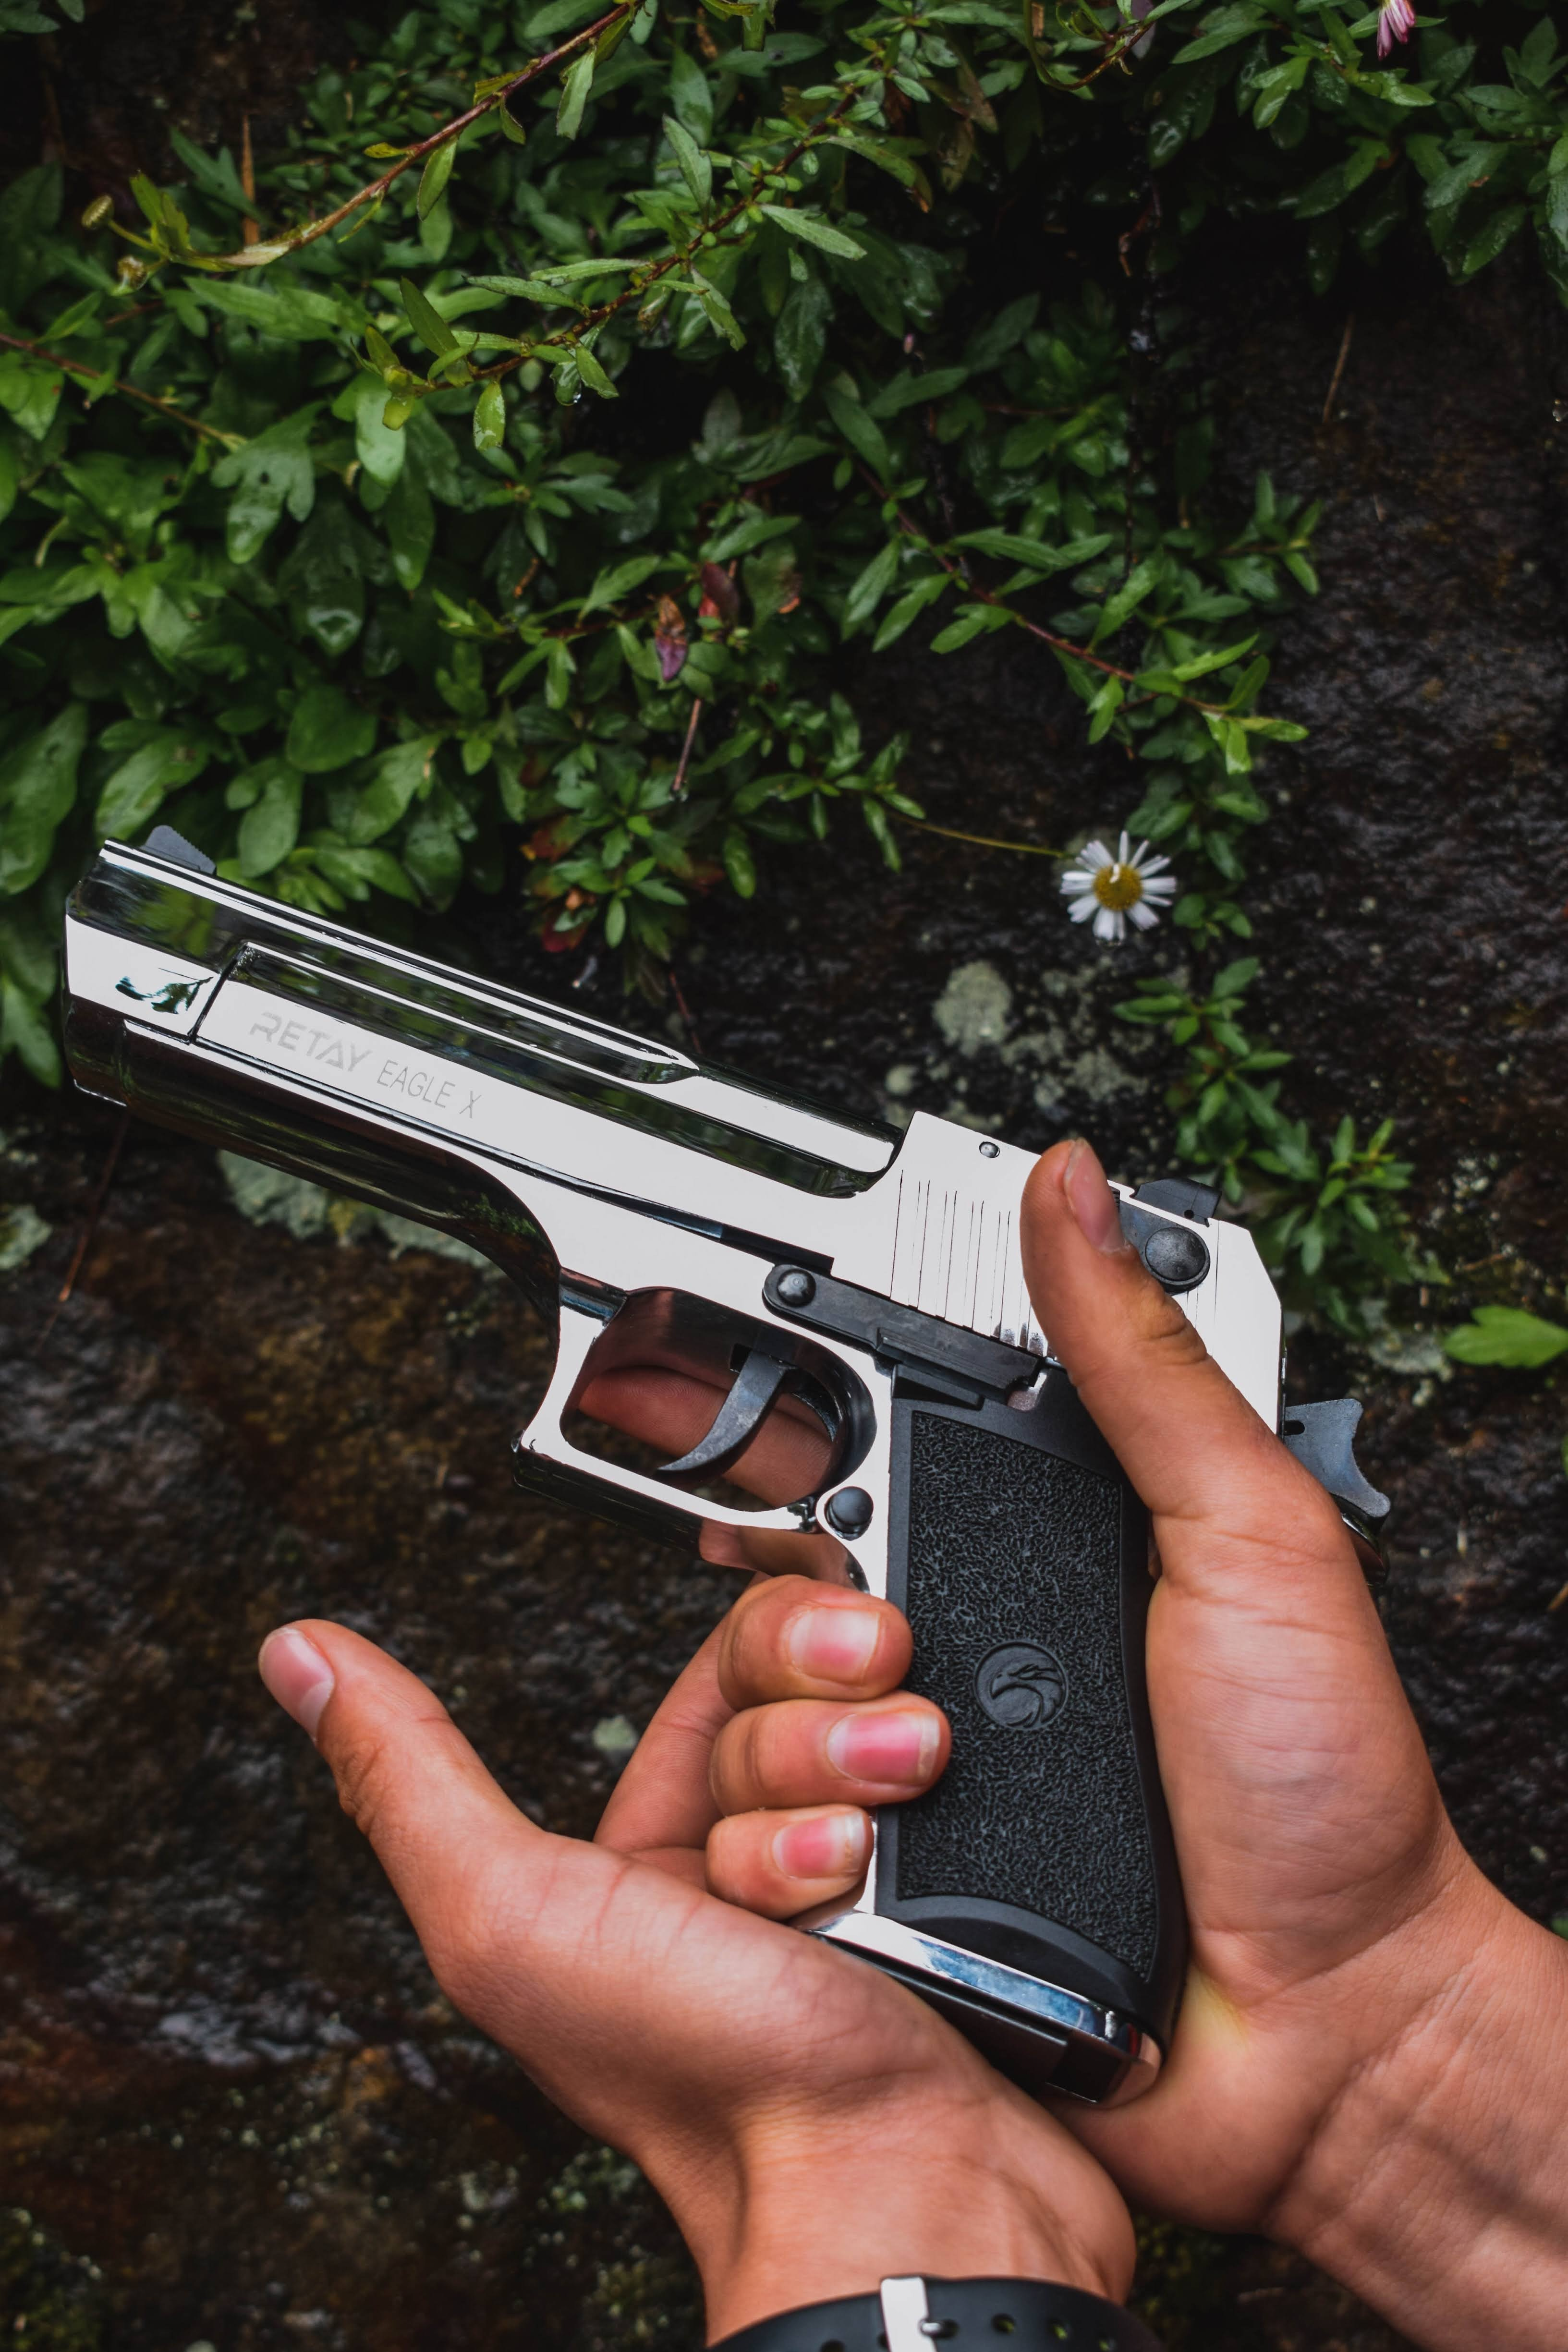gun: (45, 815, 1414, 2093)
